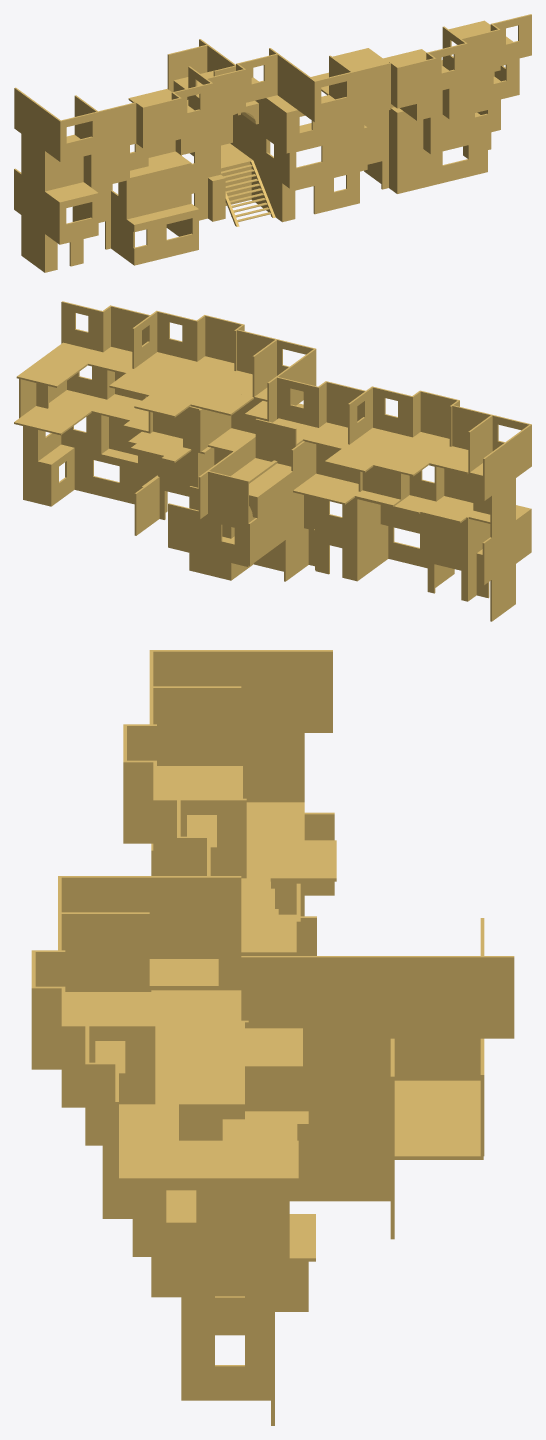
Rendered from street.fbx.
3 views of the same model, one above another, from view 1: azimuth 30°, elevation 25°; view 2: azimuth 150°, elevation 25°; view 3: azimuth 270°, elevation 25° (orthographic). The views are drawn at different scales.
Parts seen in each view (by area): view 1: Street2; view 2: Street2; view 3: Street2.
Part boxes in pixels (x1=…): Street2: x1=14, y1=14, x2=531, y2=272; Street2: x1=14, y1=301, x2=531, y2=621; Street2: x1=31, y1=650, x2=514, y2=1425.
Size of the model in its own units: 715 by 240 by 323.
